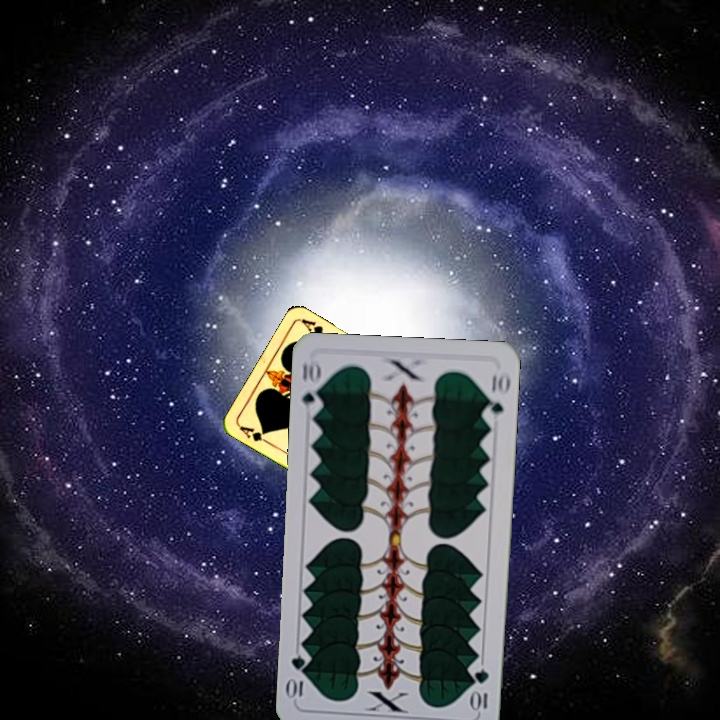G10: (298, 357, 325, 417), (468, 665, 491, 715)
GA: (235, 422, 273, 447)
